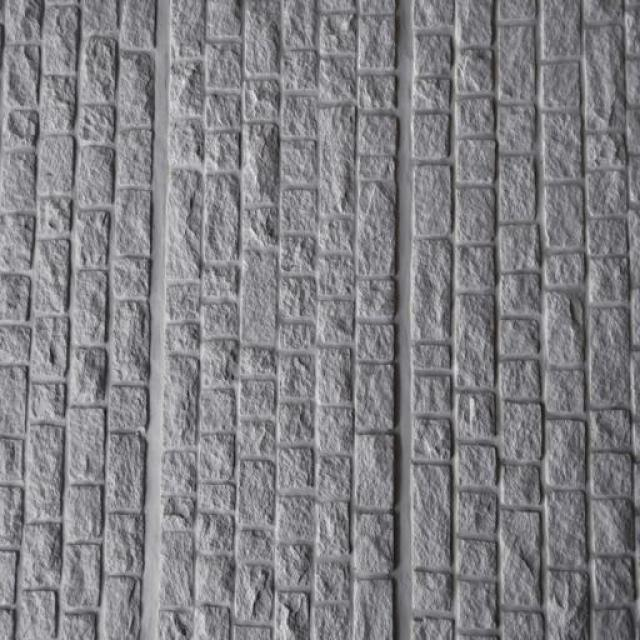uncracked_wall: (3, 0, 637, 640)
